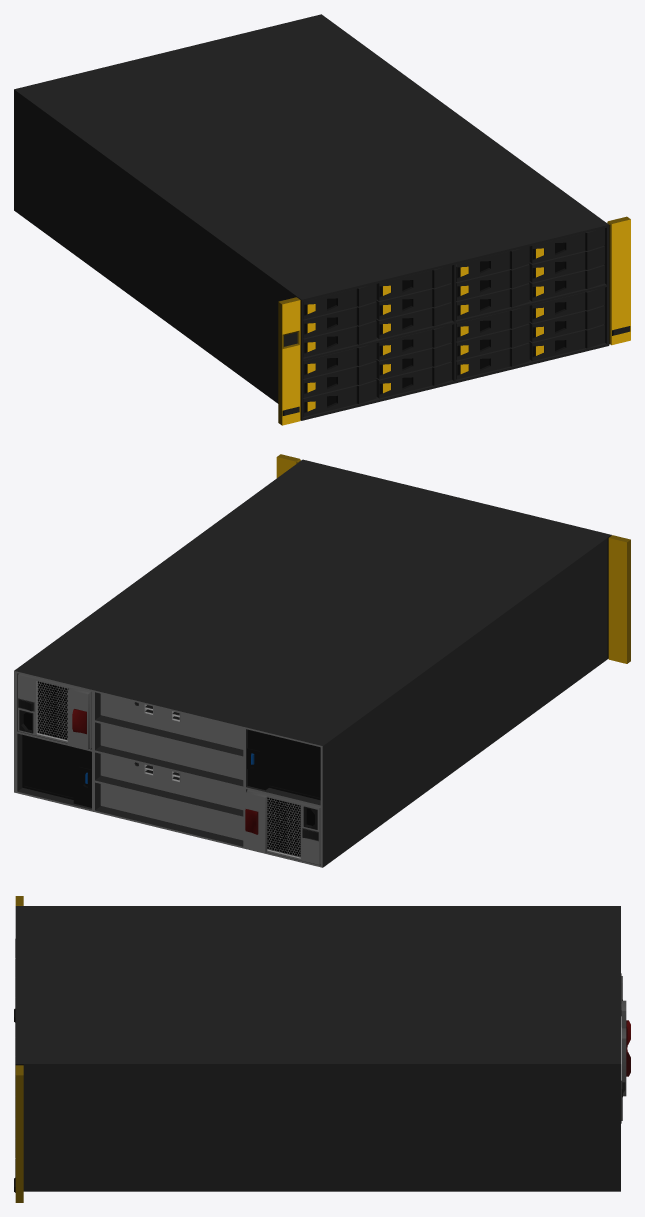
File: HPE_3PAR_8000.fbx
The picture shows the model from 3 angles, top to bottom: view 1: azimuth 30°, elevation 25°; view 2: azimuth 150°, elevation 25°; view 3: azimuth 270°, elevation 25°; orthographic projection. The views are drawn at different scales.
Visible parts, largest first — view 1: HPE_3PAR_8000; view 2: HPE_3PAR_8000; view 3: HPE_3PAR_8000.
Boxes of the visible parts, bbox=[...] form: HPE_3PAR_8000: bbox=[14, 14, 630, 425]; HPE_3PAR_8000: bbox=[14, 454, 630, 867]; HPE_3PAR_8000: bbox=[14, 896, 630, 1202].
Bounding box in the file's own units: 480 × 159 × 698.
17 materials, 1 textured.
